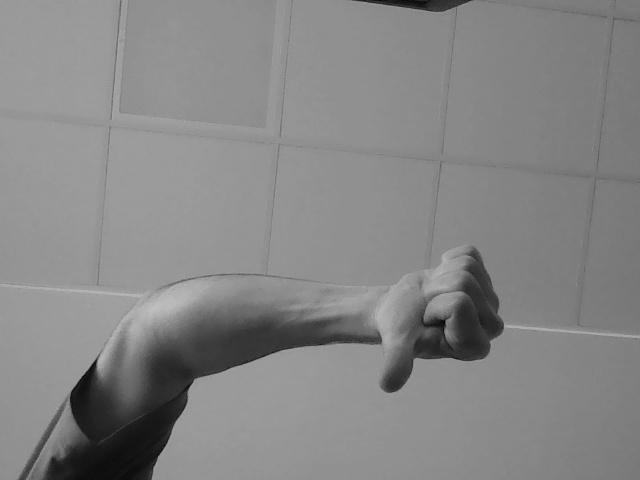bad: (389, 210, 515, 400)
